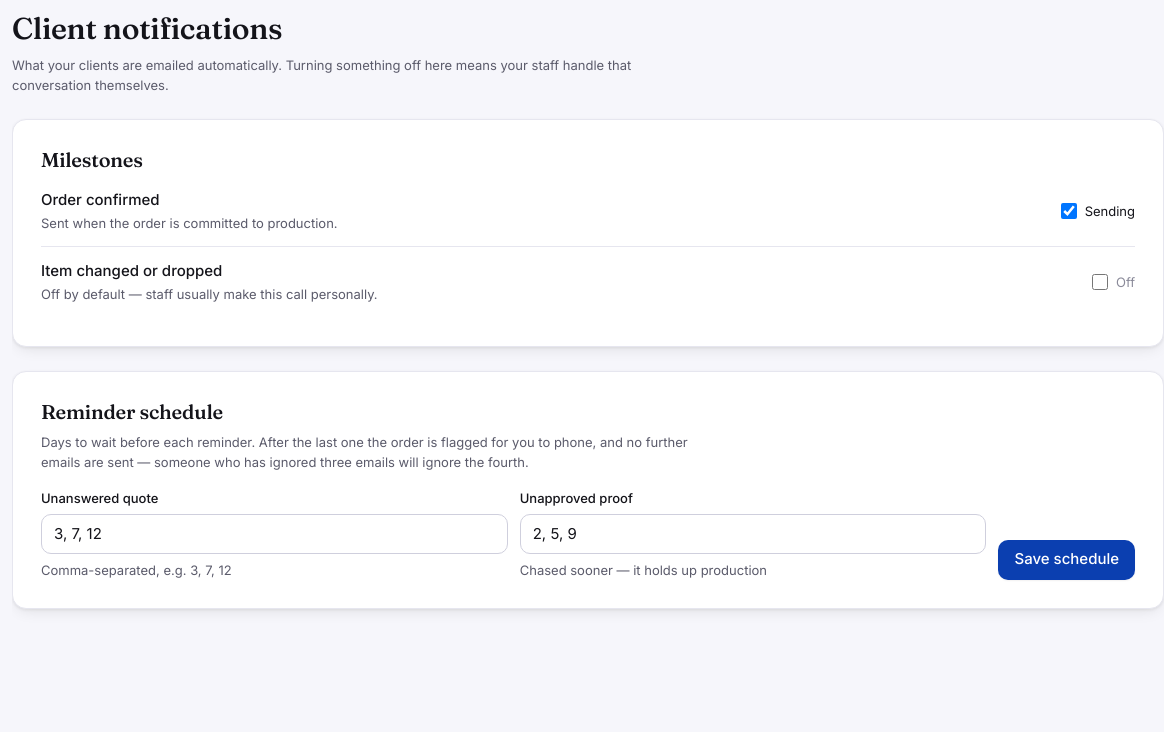
rejects an empty schedule
Clear the field labelled "Unanswered quote". click: (274, 534)
box: [41,514,508,554]
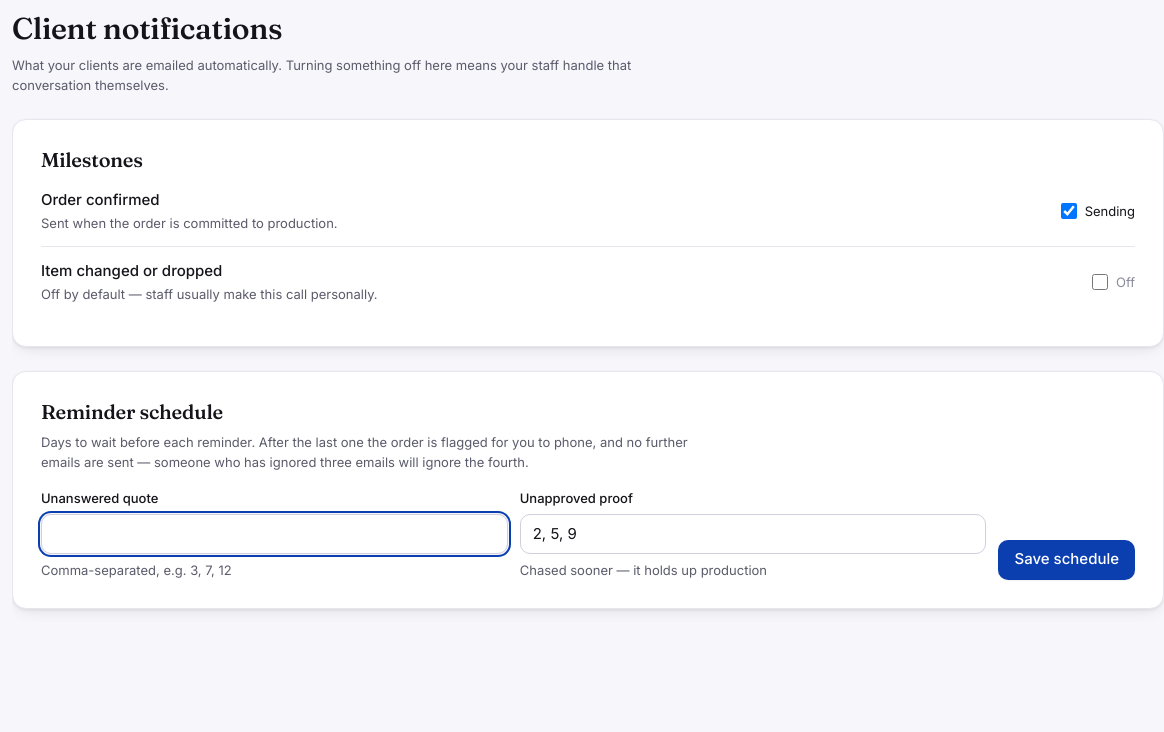
Click the button "Save schedule". click: click(1067, 560)
box: [998,540,1135,580]
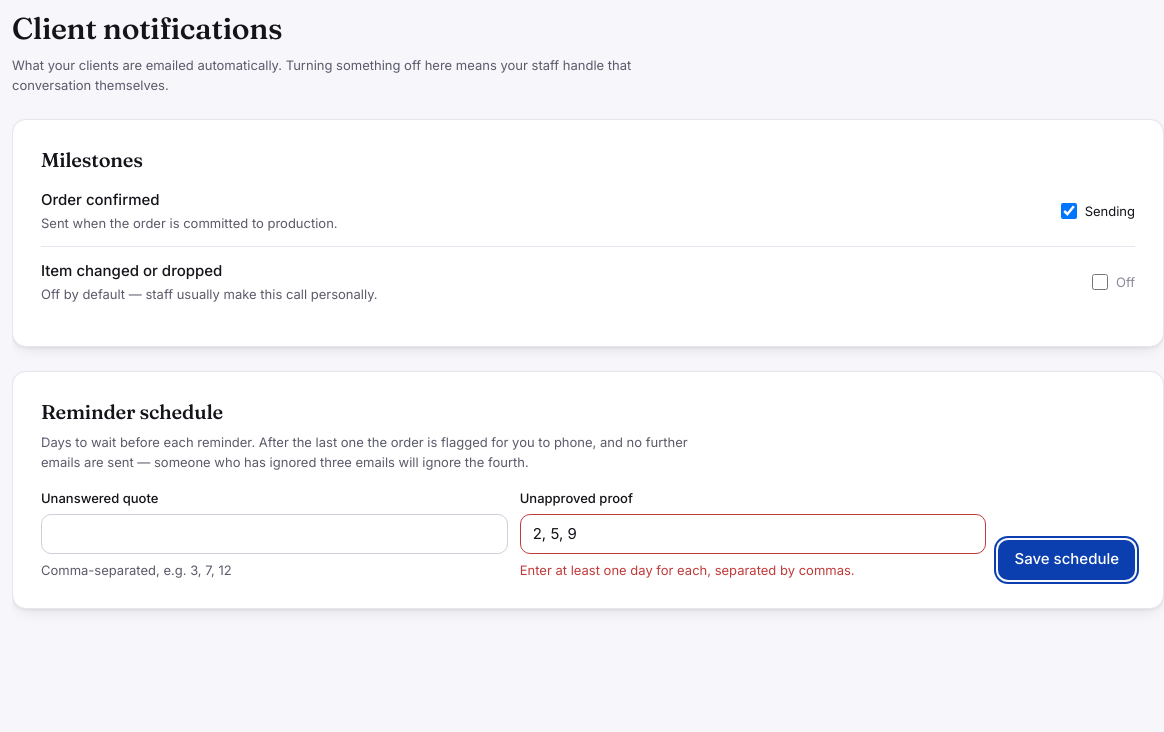
Now the text "Enter at least one day for each, separated by commas." is shown, box [520,562,854,578]
